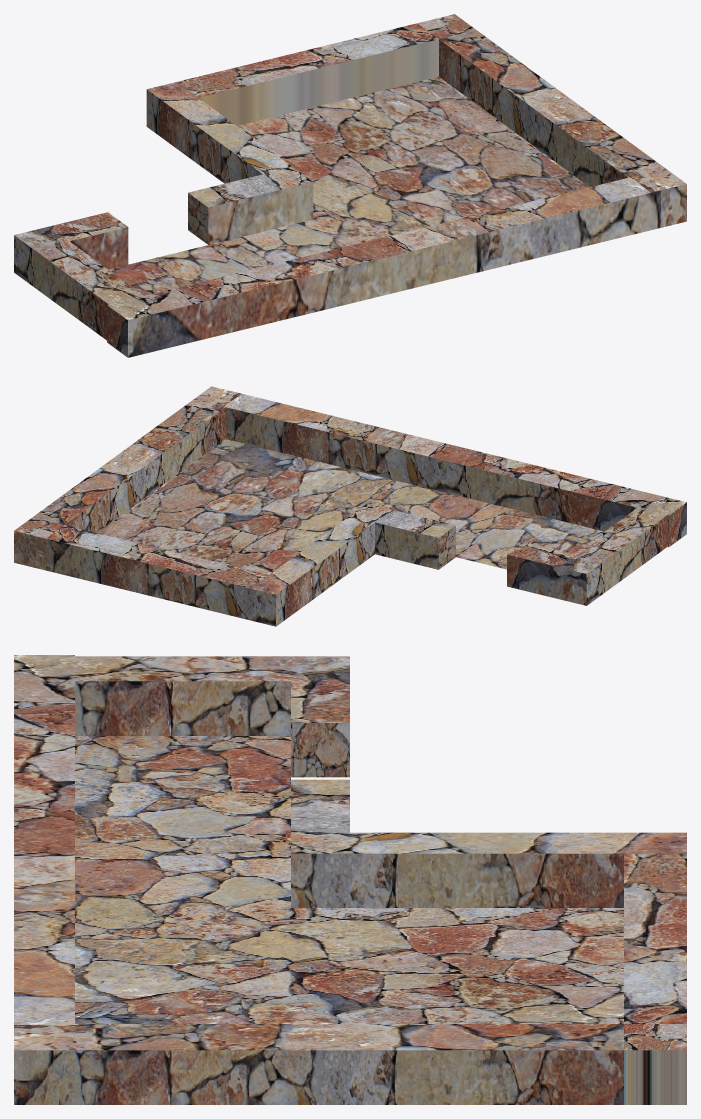
Rendered from Hittite_CivilHouse_onConstruction.fbx.
3 renders of one model, top to bottom at view 1: azimuth 30°, elevation 25°; view 2: azimuth 150°, elevation 25°; view 3: azimuth 270°, elevation 25°, orthographic. The views are drawn at different scales.
Parts seen in each view (by area): view 1: Cube_002; view 2: Cube_002; view 3: Cube_002.
Boxes of the visible parts, x1,y1,x2,y2 form: Cube_002: (14, 14, 686, 357); Cube_002: (14, 386, 686, 626); Cube_002: (14, 655, 686, 1104).
Size of the model in its own units: 12 by 0.7692 by 8.63.
